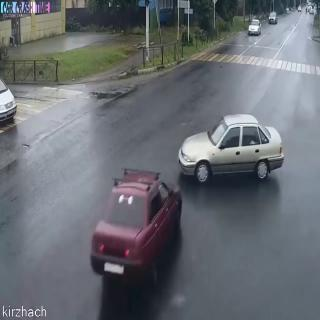normal: (111, 131, 240, 231)
